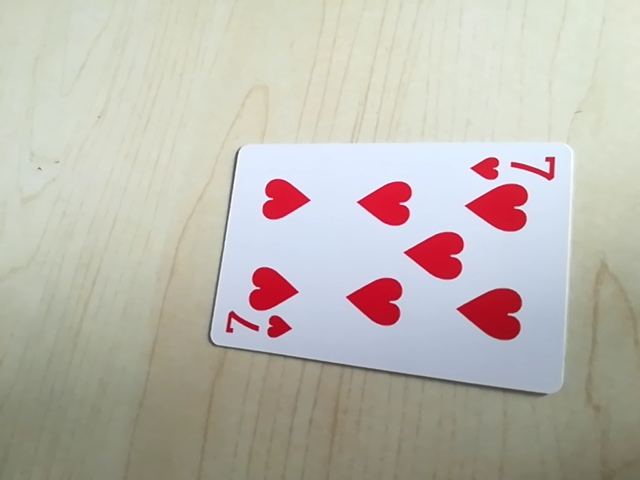hx 7: (466, 148, 557, 185), (221, 311, 292, 345)
